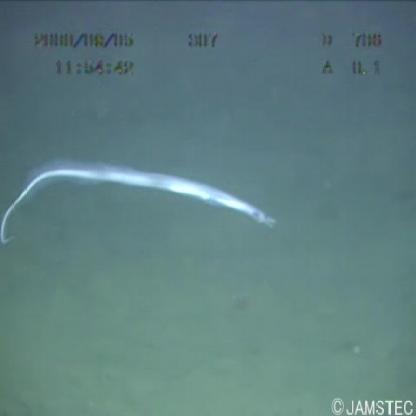Bio: (1, 158, 284, 250)
